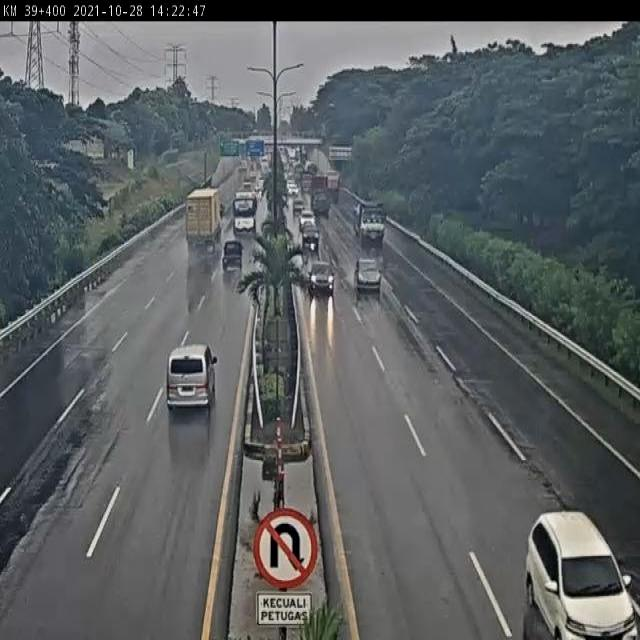Bus: (232, 192, 258, 236)
Car: (523, 511, 636, 636), (354, 258, 382, 296), (307, 261, 335, 298), (299, 208, 316, 233), (242, 180, 257, 202), (286, 180, 298, 197), (293, 197, 304, 215), (256, 176, 264, 194)
Truck: (185, 188, 223, 258), (353, 198, 386, 244), (222, 240, 244, 272), (327, 172, 341, 202)
Van: (166, 341, 218, 409)
